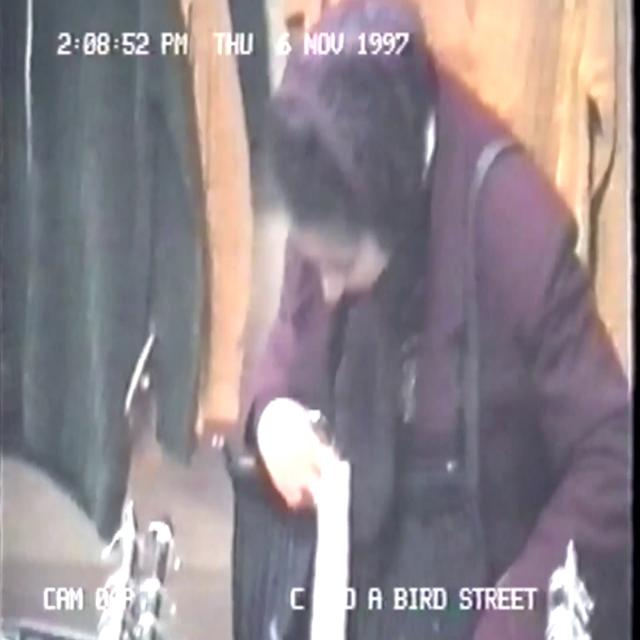Product: (227, 420, 336, 640)
shoplifting: (203, 0, 636, 640)
